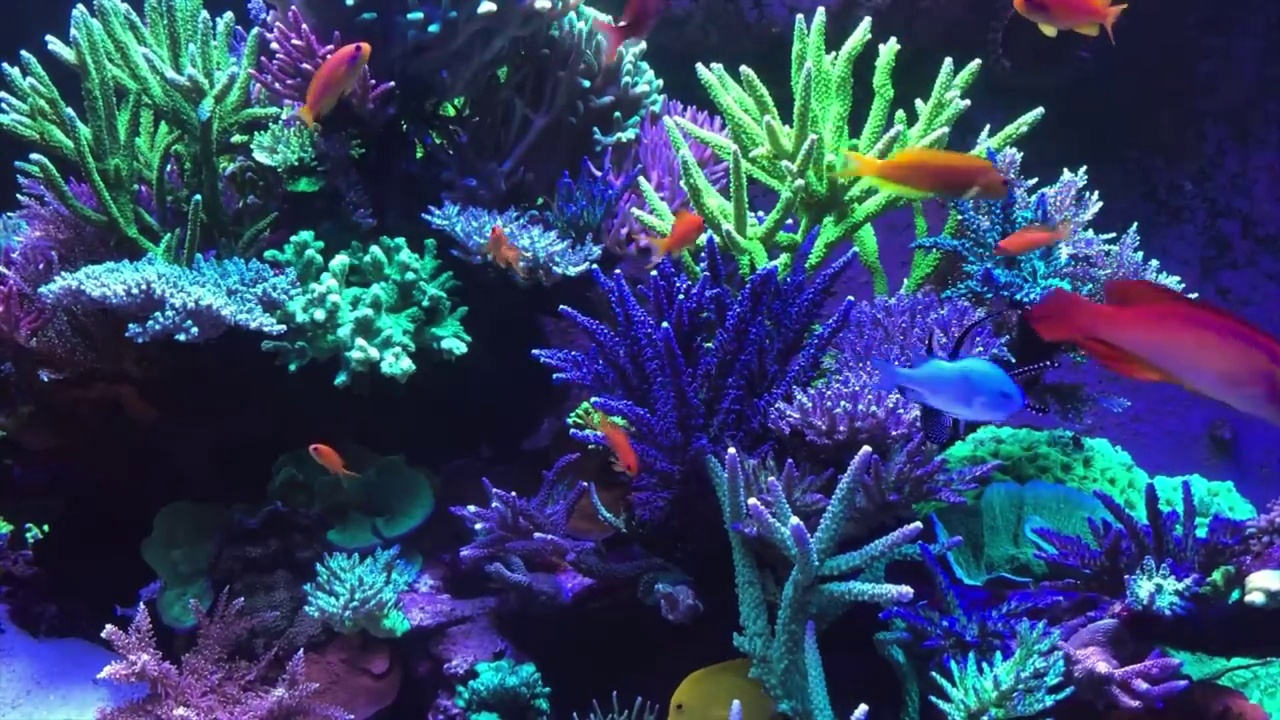fish: (1026, 279, 1280, 433), (896, 316, 1061, 449), (828, 145, 1014, 208), (869, 356, 1025, 422), (663, 657, 782, 720), (296, 40, 373, 132), (1011, 1, 1134, 39), (595, 1, 669, 63), (583, 405, 639, 479), (993, 221, 1080, 258), (654, 207, 708, 265), (486, 224, 530, 284), (306, 443, 359, 487)
